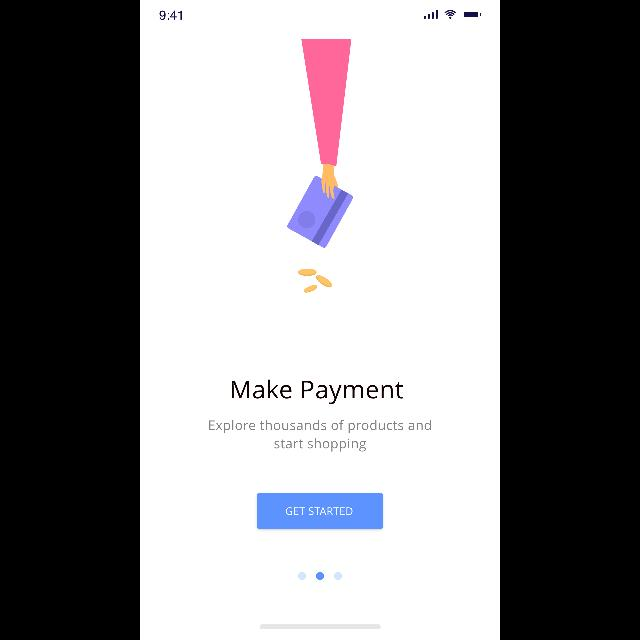image: (287, 39, 353, 293)
pageindicator: (298, 572, 342, 580)
text: (209, 420, 431, 452), (232, 380, 404, 404)
textbutton: (257, 493, 383, 529)
uppertaskbar: (159, 10, 481, 20)
